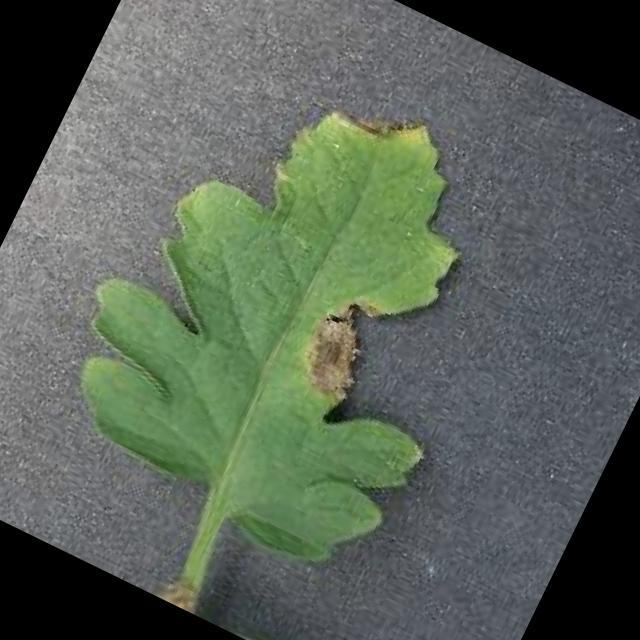Tomato late blight leaf: (31, 21, 560, 592)
